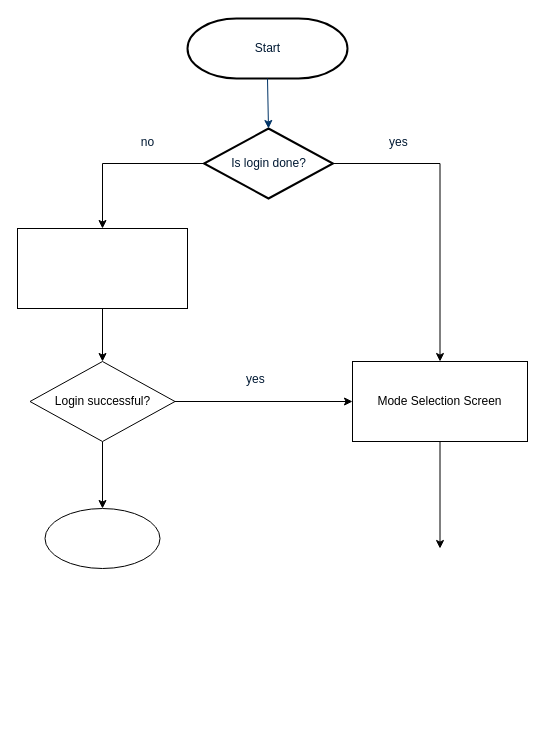
Image size: 545x734. Some labels were removed from this diagram. The shapes that lost their labels are listed below. From the top down, each one's box as (x1, y1, x2, y2) in pixels, then its label:
(16, 228, 188, 308): Login Screen
(44, 508, 160, 568): End
